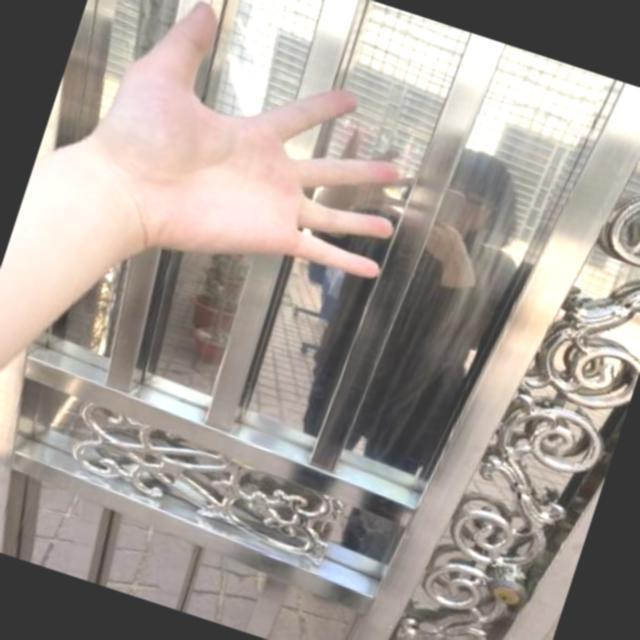hand: (41, 0, 467, 345)
